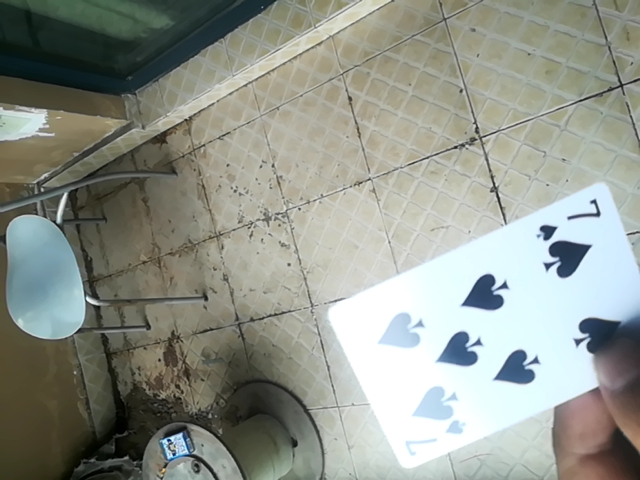ht 7: (320, 182, 640, 477)
